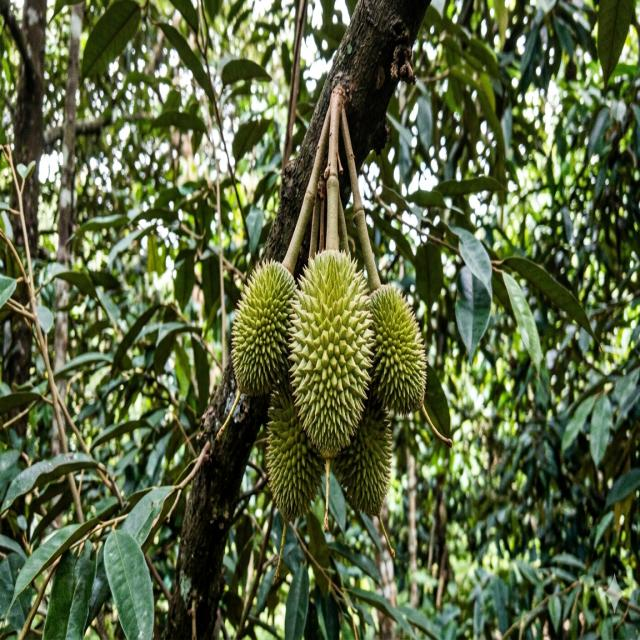immature: (288, 246, 376, 458), (230, 259, 300, 400), (262, 385, 326, 525), (364, 283, 427, 417), (304, 246, 362, 300)
